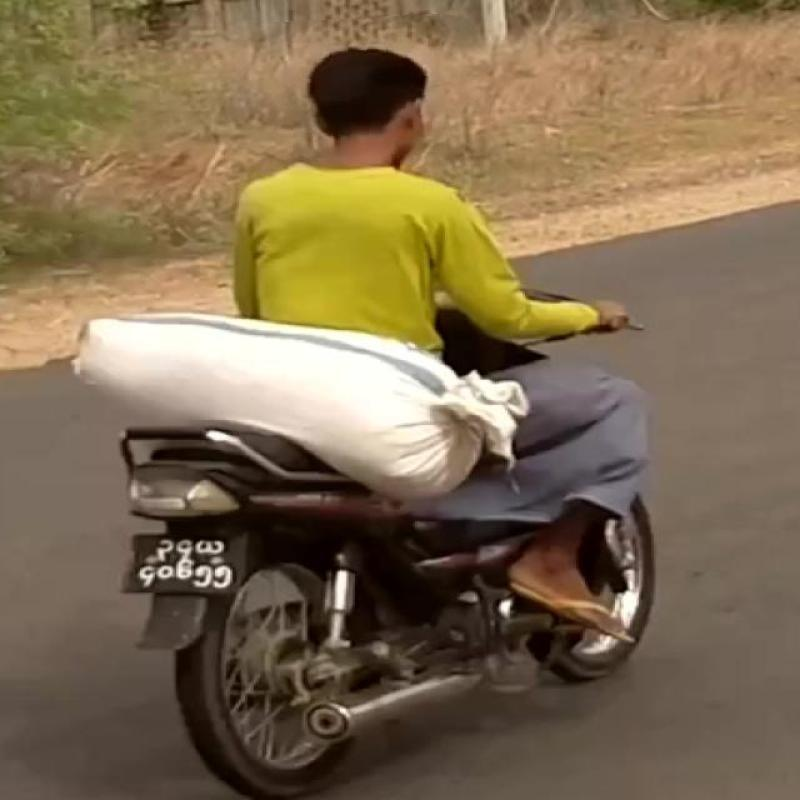nohelmet: (270, 16, 446, 158)
